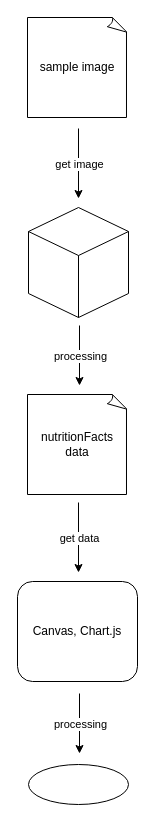
The diagram is 155 pixels wide and 822 high, and some of its shapes have lost their labels. Each missing label, with the centre of its shape:
"Chart" goes at (78,784).
"gemini-pro-vision" goes at (78,262).
